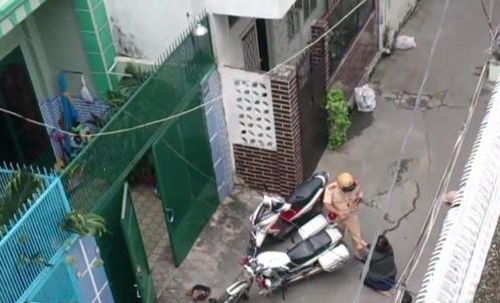police: (317, 174, 370, 263)
